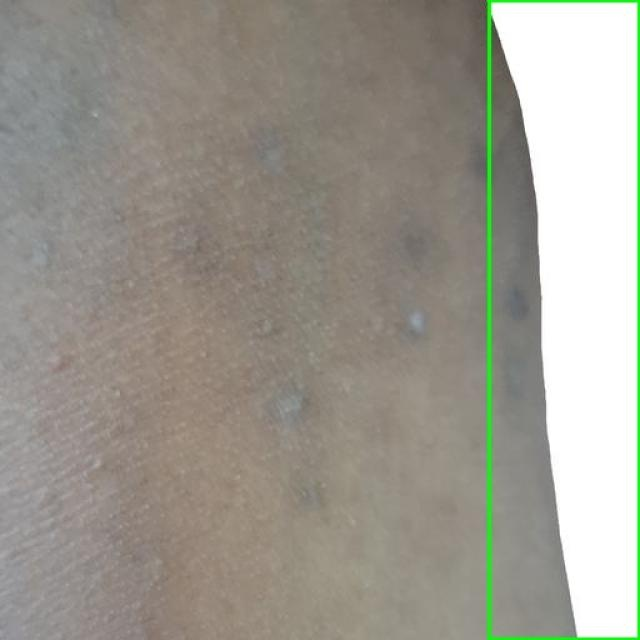Scabies: (489, 0, 639, 639)
